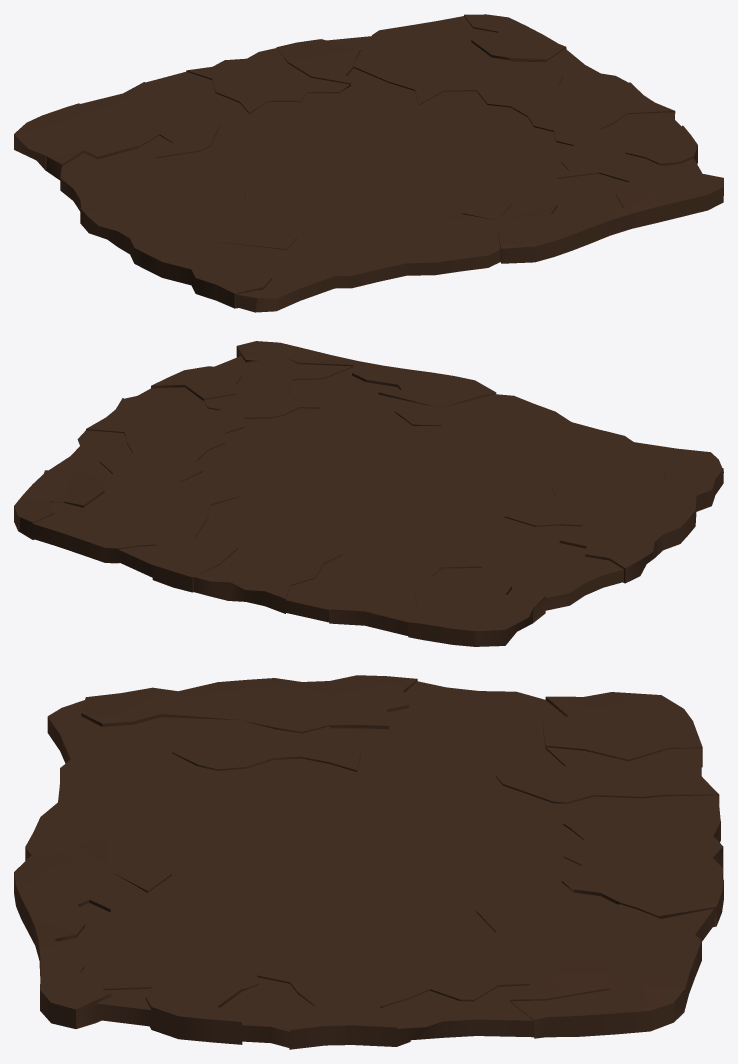
The model's file is SavannahBase.fbx.
3 views of the same model, one above another, from view 1: azimuth 30°, elevation 25°; view 2: azimuth 150°, elevation 25°; view 3: azimuth 270°, elevation 25° (orthographic). The views are drawn at different scales.
Visible parts, largest first — view 1: pCube42; view 2: pCube42; view 3: pCube42.
Part boxes in pixels (<box>): pCube42: <box>14,14,723,312</box>; pCube42: <box>14,341,723,646</box>; pCube42: <box>14,675,723,1049</box>.
Bounding box in the file's own units: 48.01 × 1.66 × 40.66.
